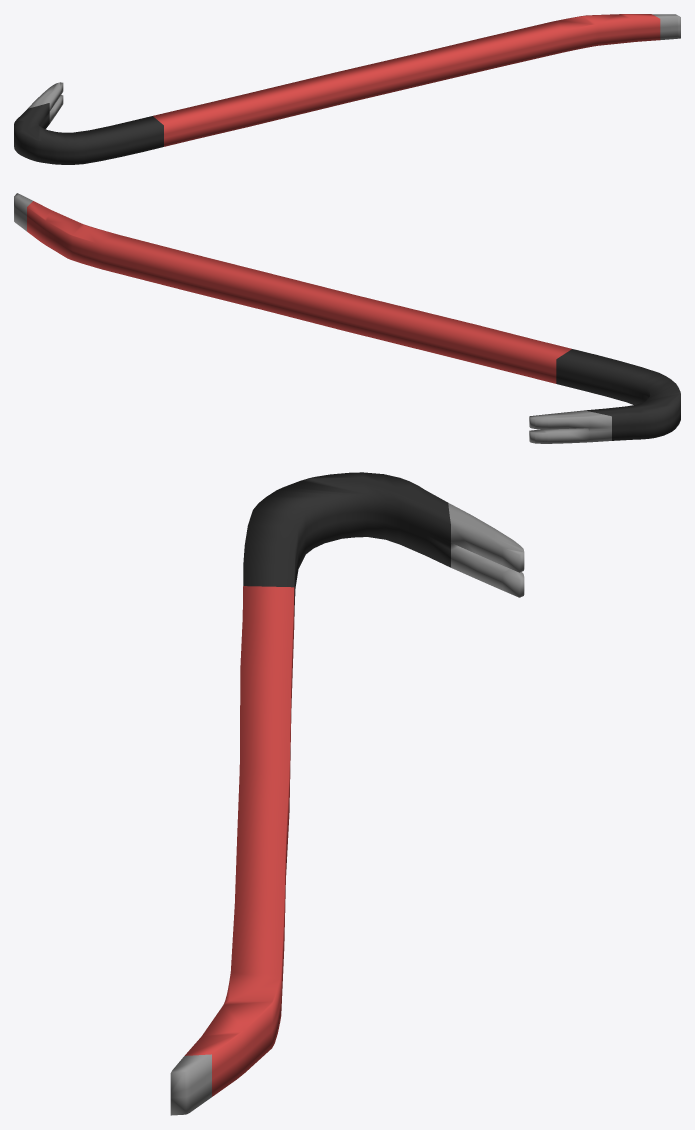
The model's file is crowbar.glb.
3 renders of one model, top to bottom at view 1: azimuth 30°, elevation 25°; view 2: azimuth 150°, elevation 25°; view 3: azimuth 270°, elevation 25°, orthographic. The views are drawn at different scales.
Parts seen in each view (by area): view 1: crowbar; view 2: crowbar; view 3: crowbar.
Part boxes in pixels (box(x1,y1,x2,y2)): crowbar: box(14, 14, 680, 164); crowbar: box(14, 193, 680, 443); crowbar: box(170, 472, 524, 1115).
Bounding box in the file's own units: 1.78 × 0.0591 × 0.4431.
